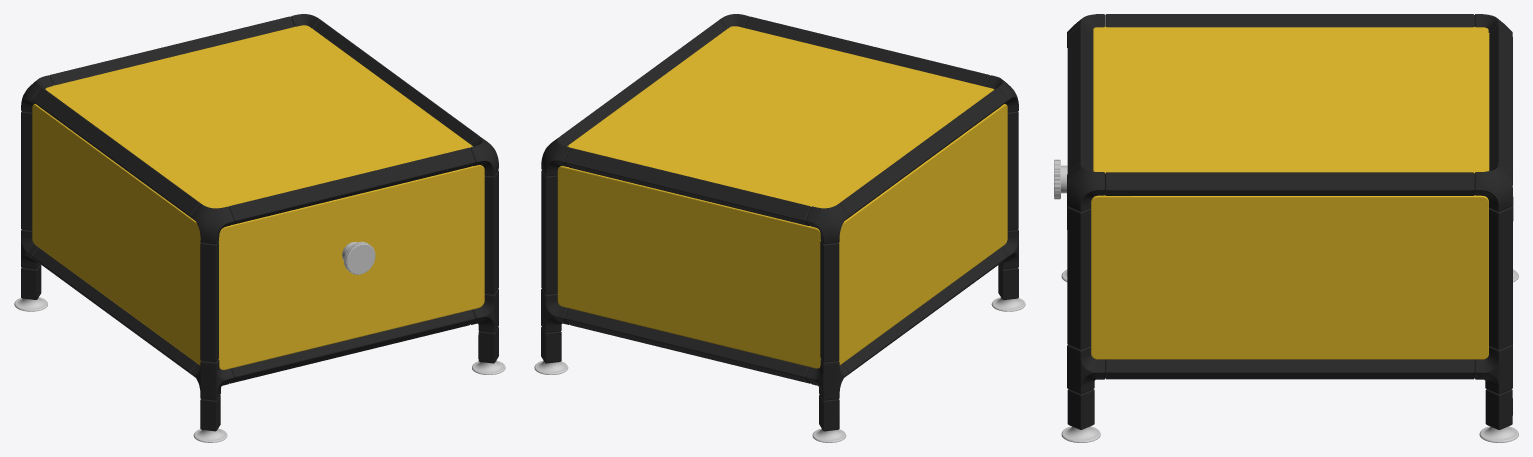
3 views of the same model, side by side, from view 1: azimuth 30°, elevation 25°; view 2: azimuth 150°, elevation 25°; view 3: azimuth 270°, elevation 25° (orthographic). The views are drawn at different scales.
Parts seen in each view (by area): view 1: 329x374x154; view 2: 329x374x154; view 3: 329x374x154.
Part boxes in pixels (<box>): 329x374x154: <box>14,14,505,442</box>; 329x374x154: <box>534,14,1025,442</box>; 329x374x154: <box>1054,14,1518,442</box>.
Bounding box in the file's own units: 0.419 × 0.2932 × 0.4707.
